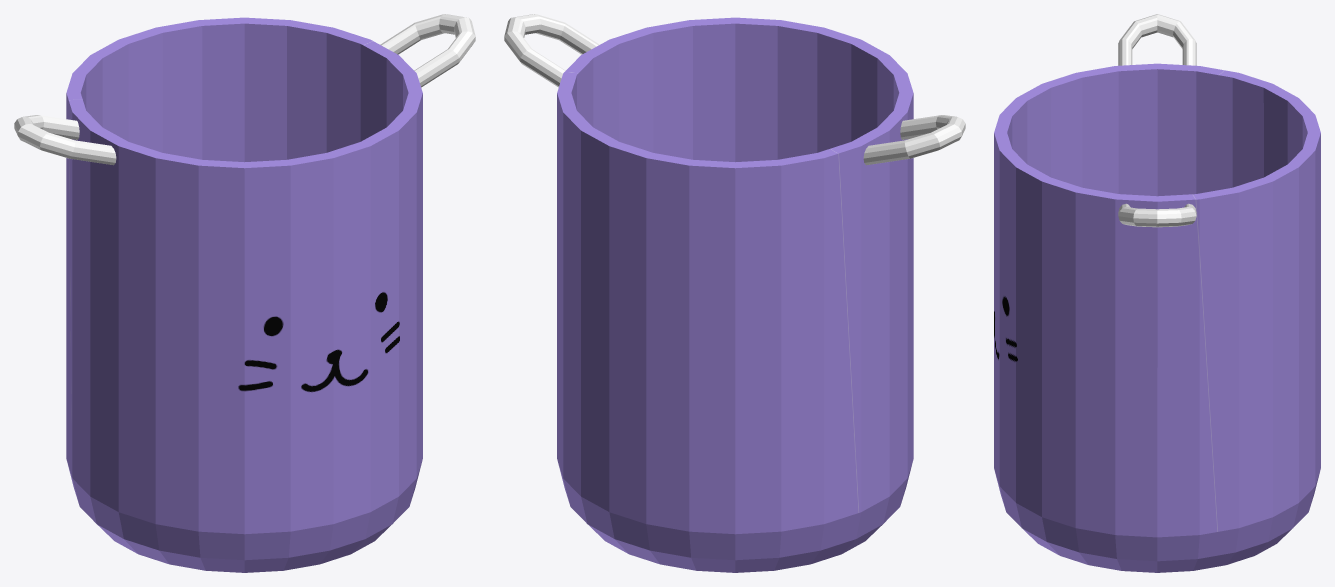
File: laundry-basket.fbx
The picture shows the model from 3 angles, left to right: view 1: azimuth 30°, elevation 25°; view 2: azimuth 150°, elevation 25°; view 3: azimuth 270°, elevation 25°; orthographic projection. The views are drawn at different scales.
Visible parts, largest first — view 1: Cylinder, Torus.001, Torus.002; view 2: Cylinder, Torus.001, Torus.002; view 3: Cylinder, Torus.002, Torus.001.
Part boxes in pixels (box(x1,y1,x2,y2)): Cylinder: box(66, 17, 422, 572); Torus.001: box(380, 14, 475, 87); Torus.002: box(14, 115, 116, 165); Cylinder: box(557, 17, 913, 572); Torus.001: box(504, 14, 599, 87); Torus.002: box(863, 115, 965, 165); Cylinder: box(994, 63, 1320, 572); Torus.002: box(1118, 14, 1196, 65); Torus.001: box(1118, 203, 1196, 227).
Size of the model in its own units: 127 by 119 by 86.32.
3 materials, 1 textured.
